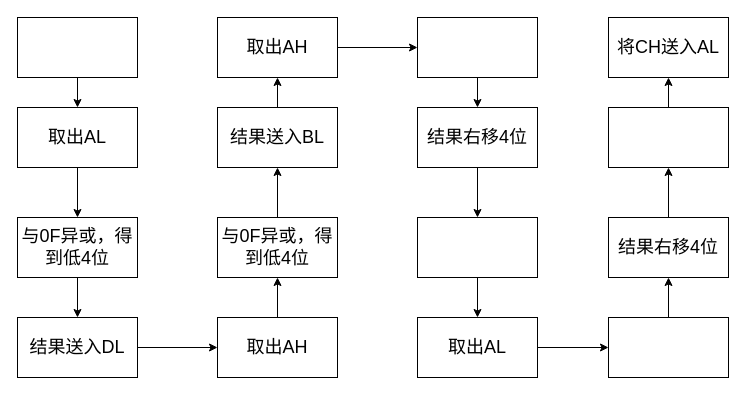
Some shapes in this 746 by 395 pixel diagram are drawn without their labels. Here are the shapes that lost their labels. From the top down, the box of each, then its label:
(16, 16, 138, 78): 为AX赋值
(416, 16, 538, 78): 与F0异或，得到高4位
(608, 106, 728, 168): 结果送入CL
(416, 216, 538, 278): 结果送入CH暂存
(608, 316, 728, 378): 与F0异或获得高4位
